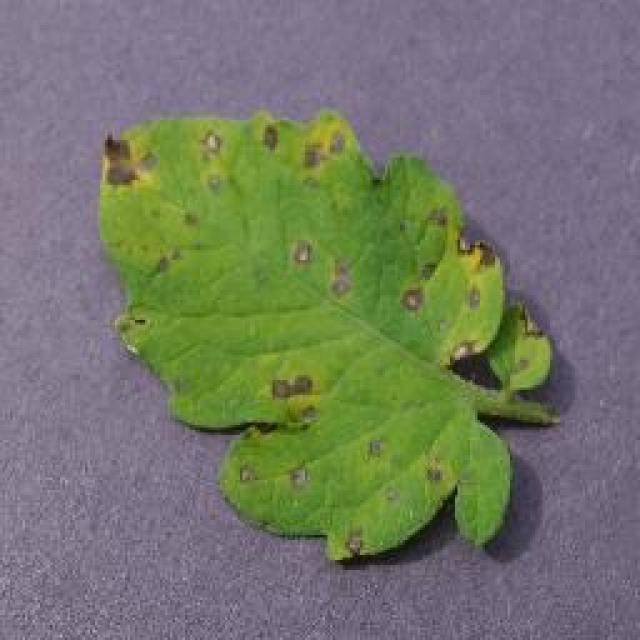Tomato___Septoria_leaf_spot: (100, 110, 558, 558)
